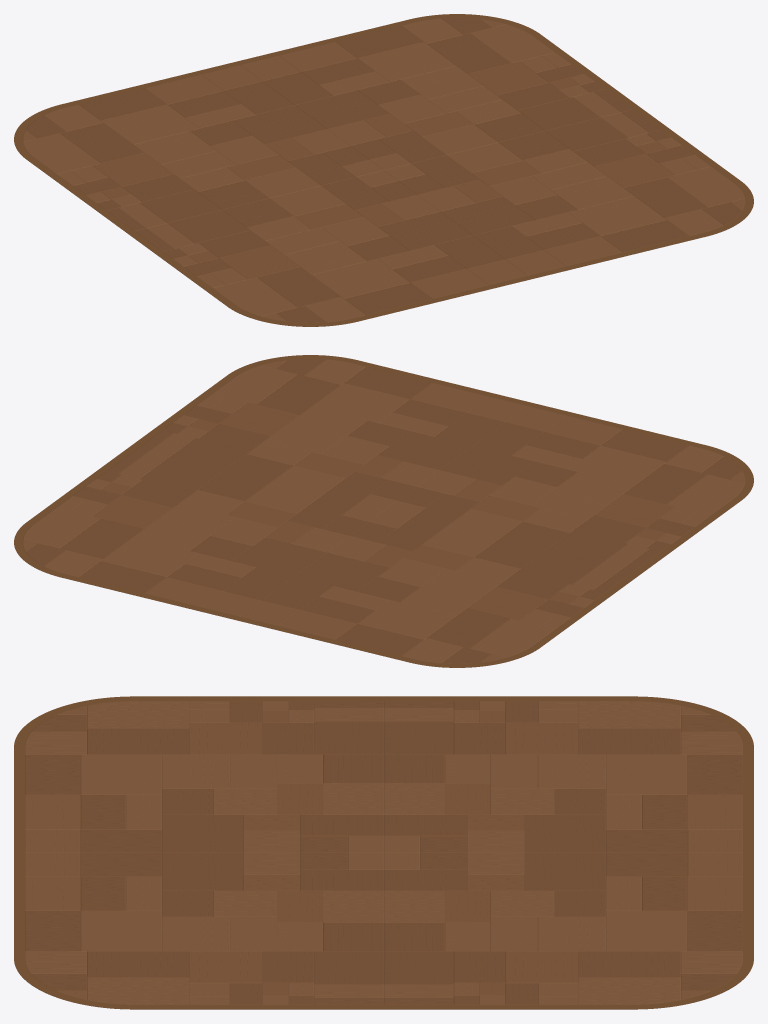
The model's file is Wood_Floor_Variant_03.glb.
3 renders of one model, top to bottom at view 1: azimuth 30°, elevation 25°; view 2: azimuth 150°, elevation 25°; view 3: azimuth 270°, elevation 25°, orthographic. The views are drawn at different scales.
Parts seen in each view (by area): view 1: Wood_Floor_Variant_03; view 2: Wood_Floor_Variant_03; view 3: Wood_Floor_Variant_03.
Part boxes in pixels (bbox=[...]): Wood_Floor_Variant_03: bbox=[14, 14, 753, 326]; Wood_Floor_Variant_03: bbox=[14, 355, 753, 667]; Wood_Floor_Variant_03: bbox=[14, 696, 753, 1009].
Size of the model in its own units: 18.95 by 0.0085 by 18.95.
